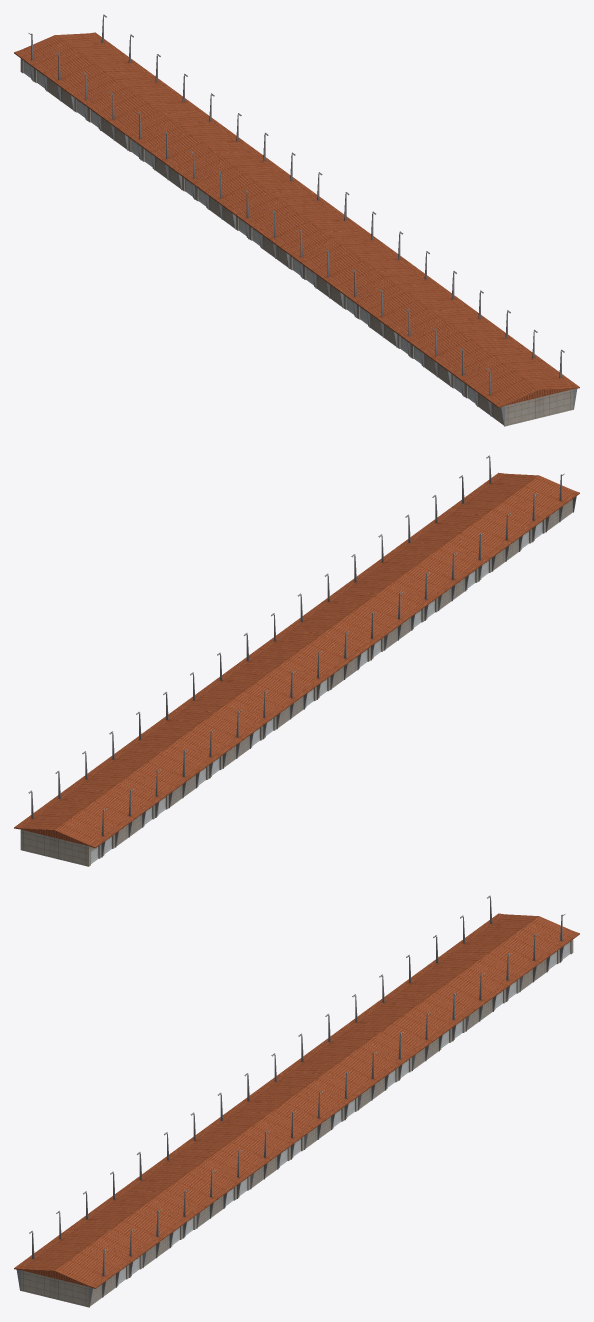
Rendered from Building2.gltf.
3 views of the same model, one above another, from view 1: azimuth 30°, elevation 25°; view 2: azimuth 150°, elevation 25°; view 3: azimuth 330°, elevation 25° (orthographic).
Parts seen in each view (by area): view 1: Building2; view 2: Building2; view 3: Building2.
Part boxes in pixels (x1,y1,x2,y2): Building2: (14, 14, 579, 426); Building2: (14, 455, 579, 866); Building2: (14, 895, 579, 1307).
Size of the model in its own units: 39.08 by 22.21 by 403.
Materials: 1 (1 with a texture image).
